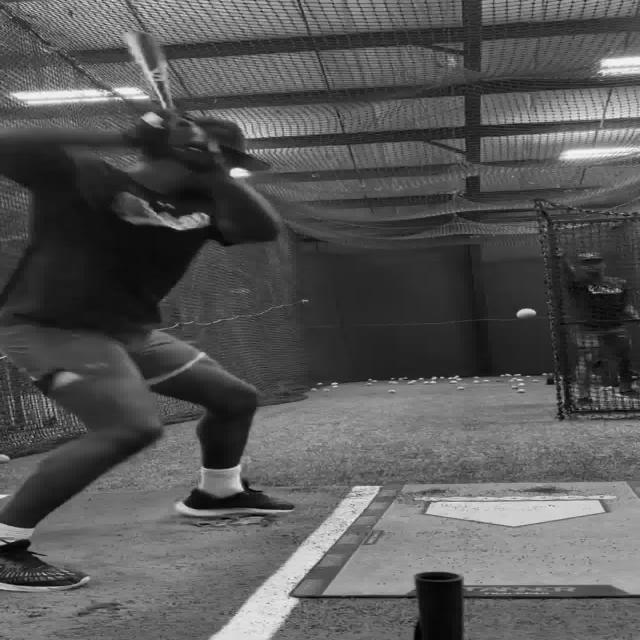base: (422, 498, 617, 525)
baseball: (516, 308, 536, 319)
baseball_glove: (124, 107, 248, 172)
bat: (122, 32, 181, 109)
shoe: (0, 537, 90, 592), (173, 479, 294, 518)
